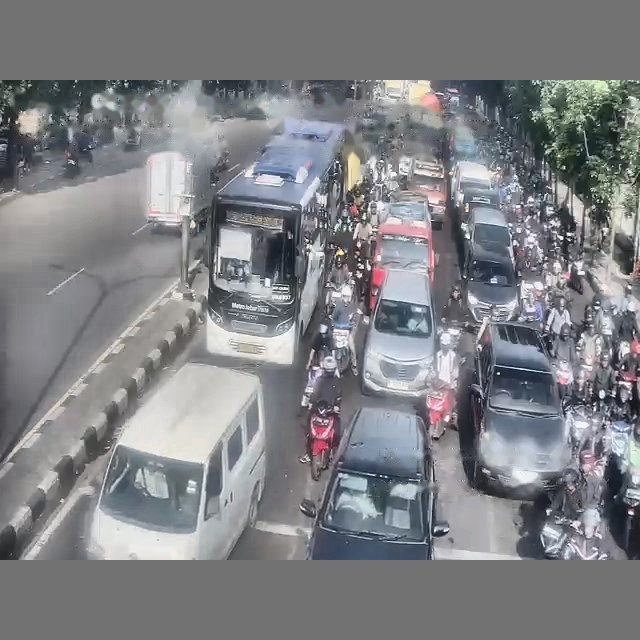Bis: (206, 119, 348, 365)
Mobil: (300, 407, 448, 559), (470, 322, 570, 493), (362, 269, 436, 398), (368, 217, 438, 310), (462, 245, 519, 323), (461, 206, 514, 263), (459, 188, 500, 228)
Motor: (540, 515, 608, 559), (309, 401, 338, 480), (64, 151, 79, 176)
